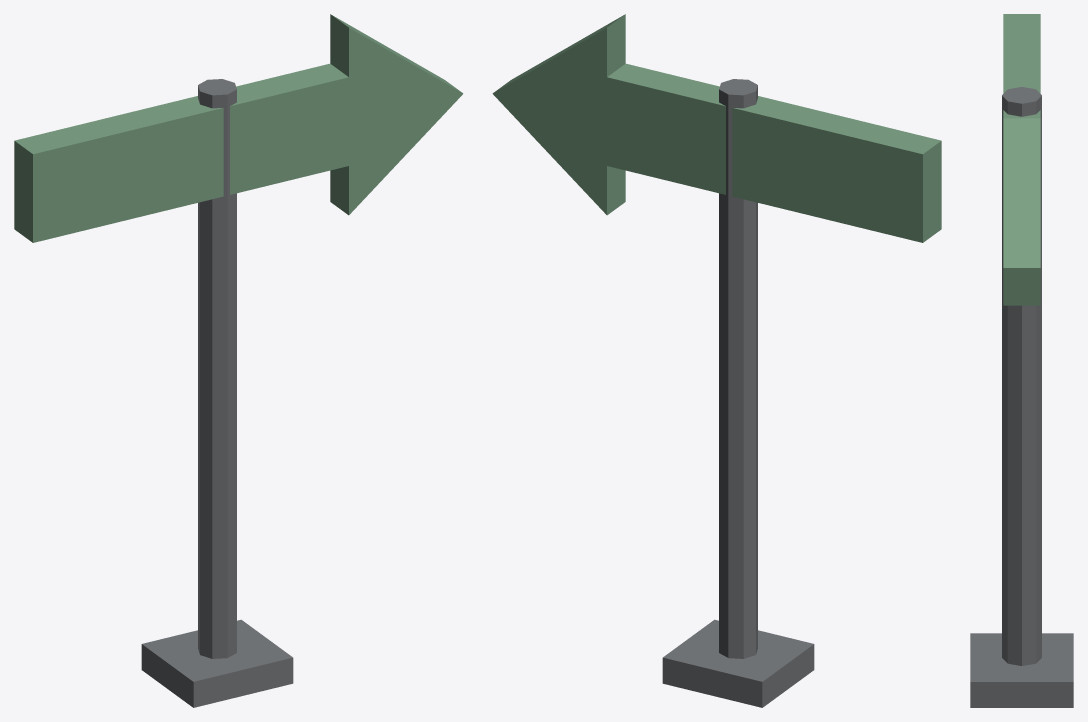
The model's file is direction_sign_02.glb.
3 renders of one model, left to right at view 1: azimuth 30°, elevation 25°; view 2: azimuth 150°, elevation 25°; view 3: azimuth 270°, elevation 25°, orthographic.
Visible parts, largest first — view 1: Direction_sign_02; view 2: Direction_sign_02; view 3: Direction_sign_02.
Boxes of the visible parts, x1,y1,x2,y2 form: Direction_sign_02: [14, 14, 463, 707]; Direction_sign_02: [492, 14, 941, 707]; Direction_sign_02: [970, 14, 1073, 707].
Bounding box in the file's own units: 0.8634 × 1.2 × 0.18.
